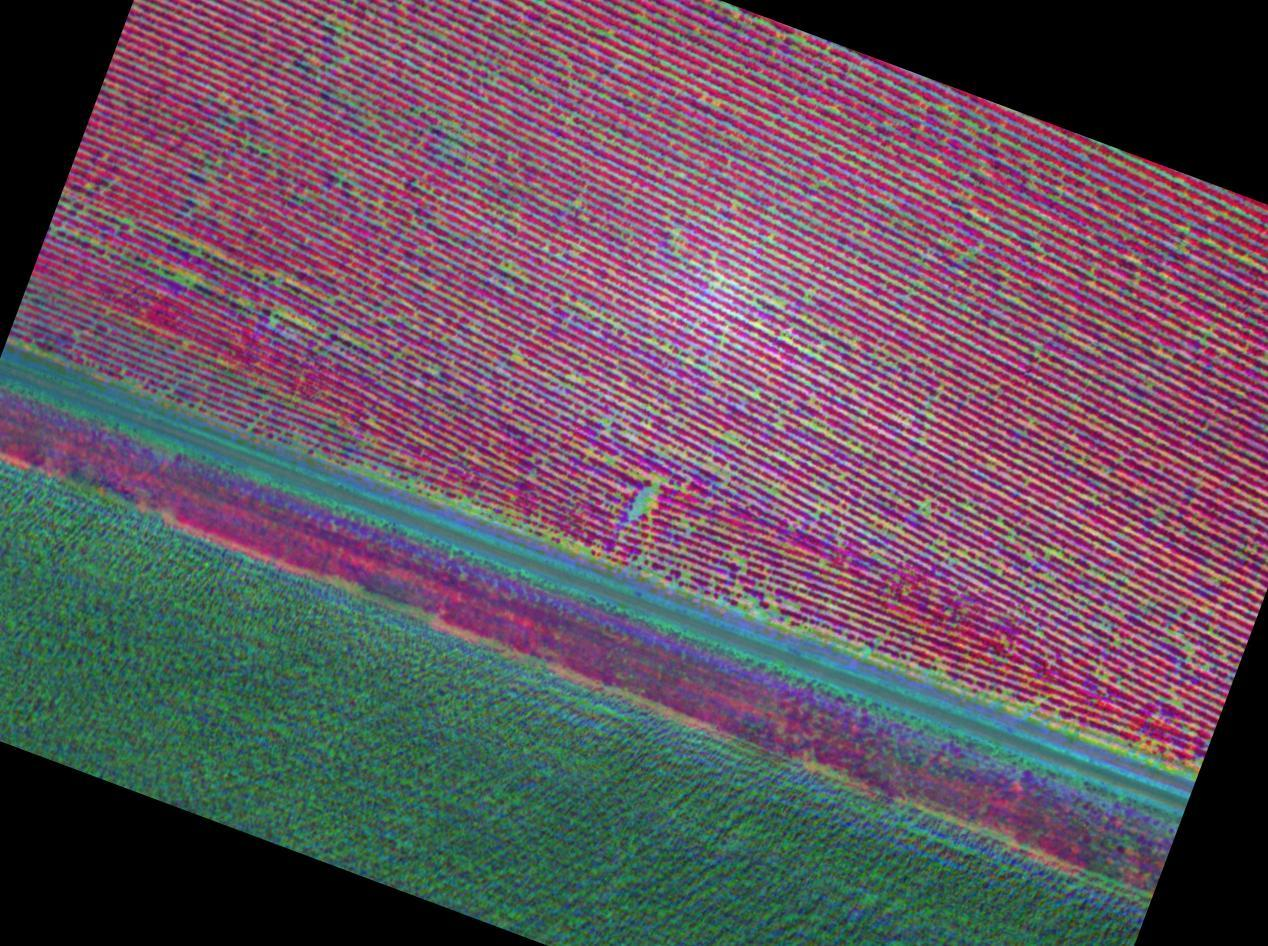dc: (639, 497, 647, 505), (178, 274, 183, 278), (342, 59, 348, 62), (505, 268, 509, 271), (923, 503, 926, 507), (1048, 551, 1051, 554), (1026, 555, 1029, 557)
